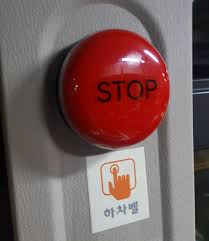bell: (56, 28, 174, 149)
